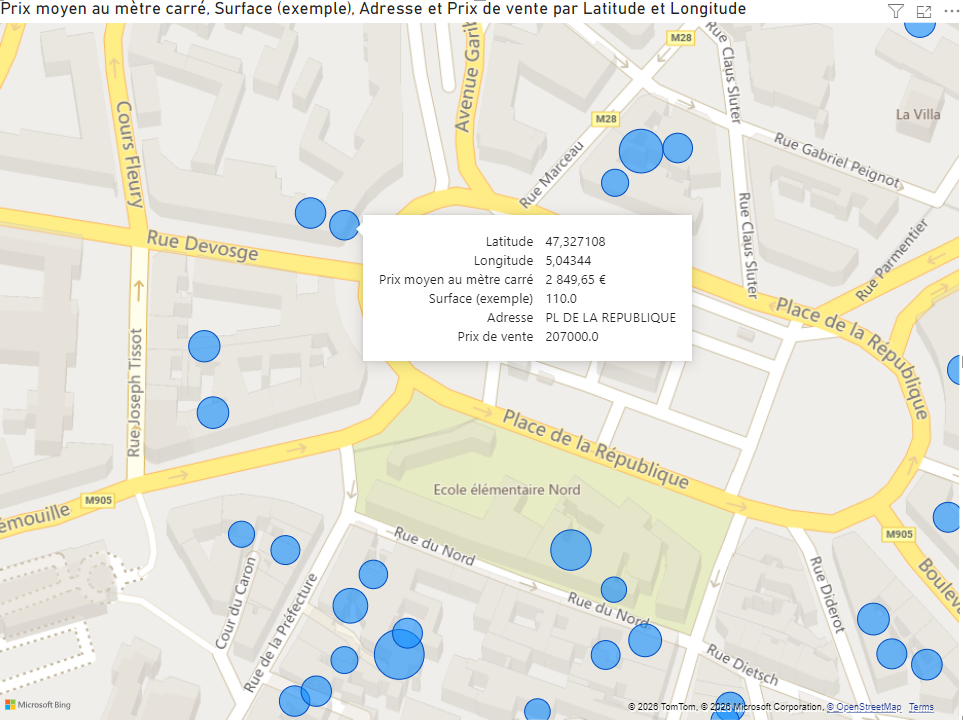

The page's visual inventory and layout, read from the dashboard file:
{"tool":"powerbi","page":{"name":"Page 1","canvas":[1280,720],"ordinal":0},"visuals":[{"type":"map","fields":{"Y":["dijon_immobilier_propre.latitude"],"X":["dijon_immobilier_propre.longitude"],"Size":["Avg(dijon_immobilier_propre.prix_m2)"]},"box":[318.1,12.6,943.5,707.1],"z":1}]}

Visuals, with their boxes on the page's 1280x720 design canvas (x1, y1, x2, y2). These are canvas units, not pixel positions in the 963x720 screenshot, which may show the page scaled, cropped or inside an application window:
map - dijon_immobilier_propre.latitude x dijon_immobilier_propre.longitude: crop(318, 13, 1262, 720)
